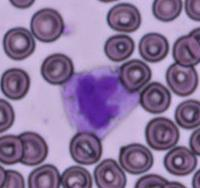M: (60, 66, 140, 140)
